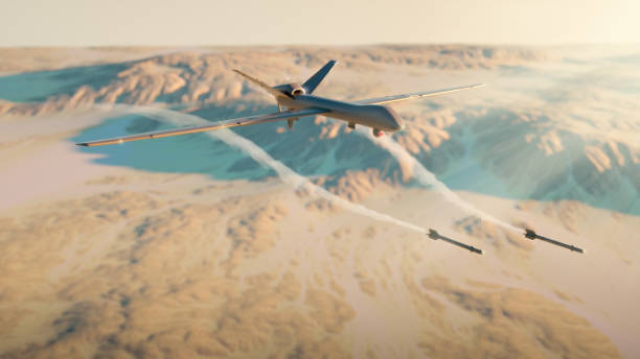military drone: (74, 59, 485, 146)
